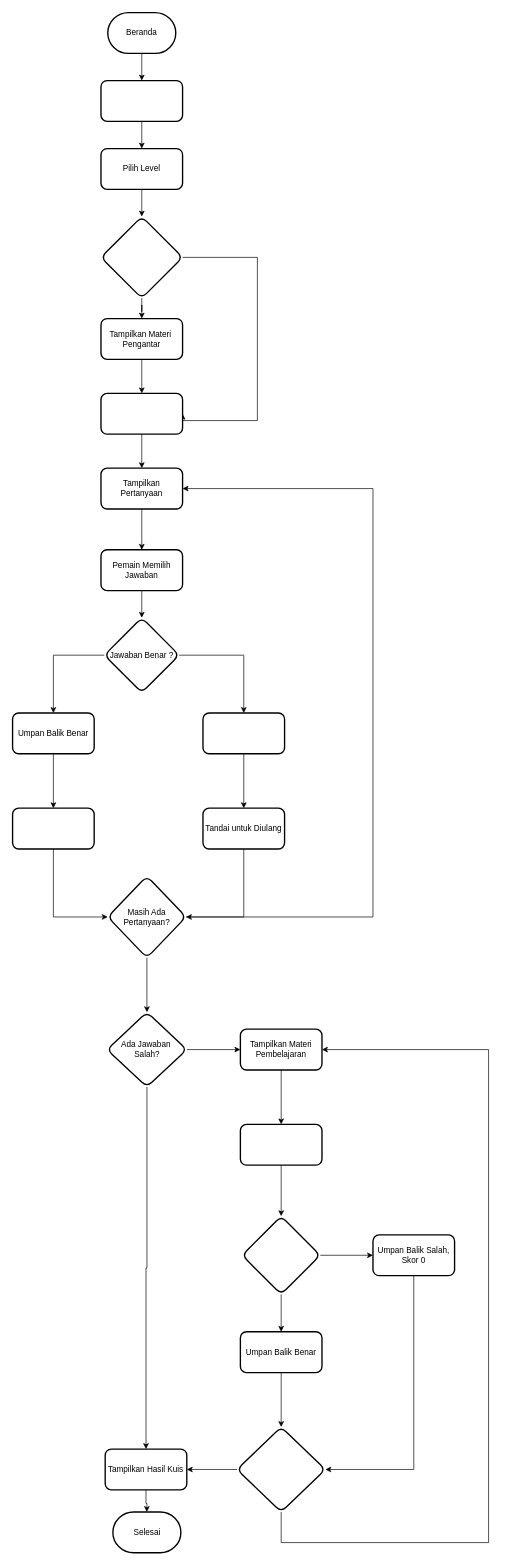
The diagram is 506 pixels wide and 1565 high, and some of its shapes have lost their labels. The shapes that lost their labels are listed below. From the top down, each one's centre as x and y in pixels, then its label:
pixel 141 101: Pilih Chapter
pixel 141 257: Belajar atau Main
pixel 141 413: Mulai Kuis
pixel 243 733: Umpan Balik Salah
pixel 53 828: Tambah Skor
pixel 280 1144: Tampilkan Ulang Pertanyaan
pixel 281 1255: Jawaban Benar?
pixel 281 1469: Masih Ada Pertanyaan Ulang?
